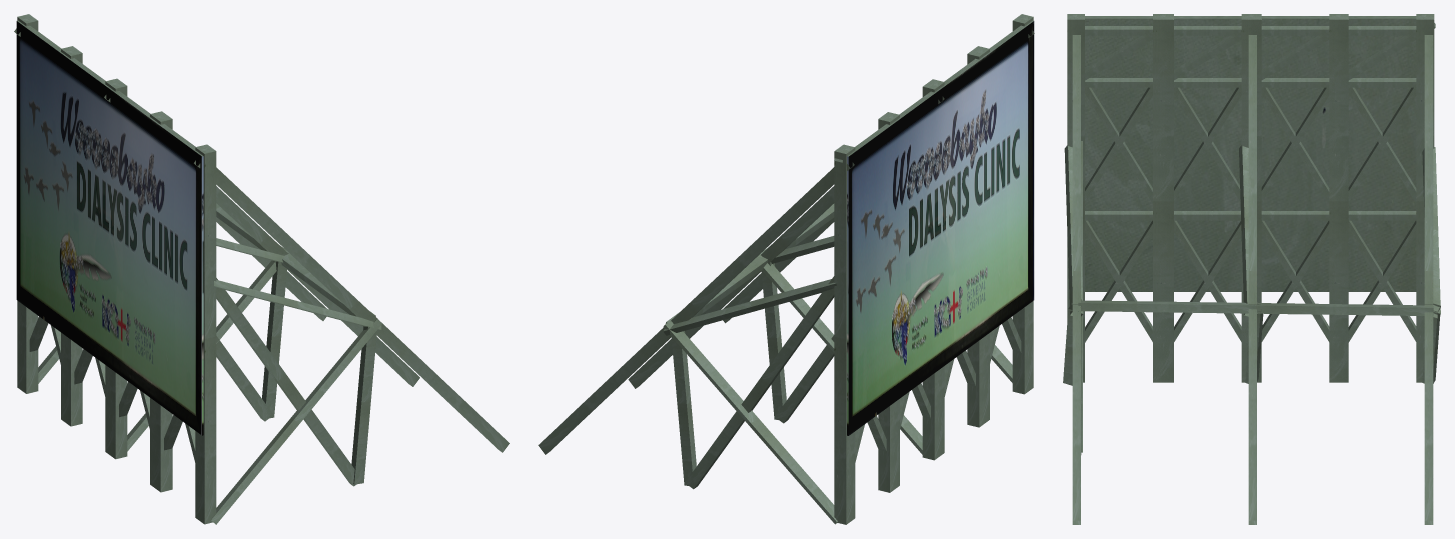
File: billboard C.FBX
3 views of the same model, side by side, from view 1: azimuth 30°, elevation 25°; view 2: azimuth 150°, elevation 25°; view 3: azimuth 270°, elevation 25° (orthographic). The views are drawn at different scales.
Visible parts, largest first — view 1: Box026; view 2: Box026; view 3: Box026.
Boxes of the visible parts, <box> form: Box026: <box>14,14,509,524</box>; Box026: <box>538,14,1034,524</box>; Box026: <box>1063,14,1440,524</box>.
Bounding box in the file's own units: 42.05 × 48.22 × 45.
Materials: 1 (1 with a texture image).
